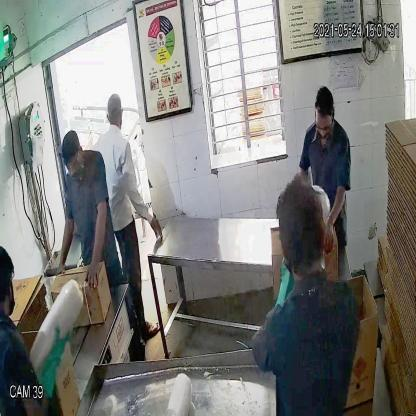goggles: (313, 118, 336, 139)
